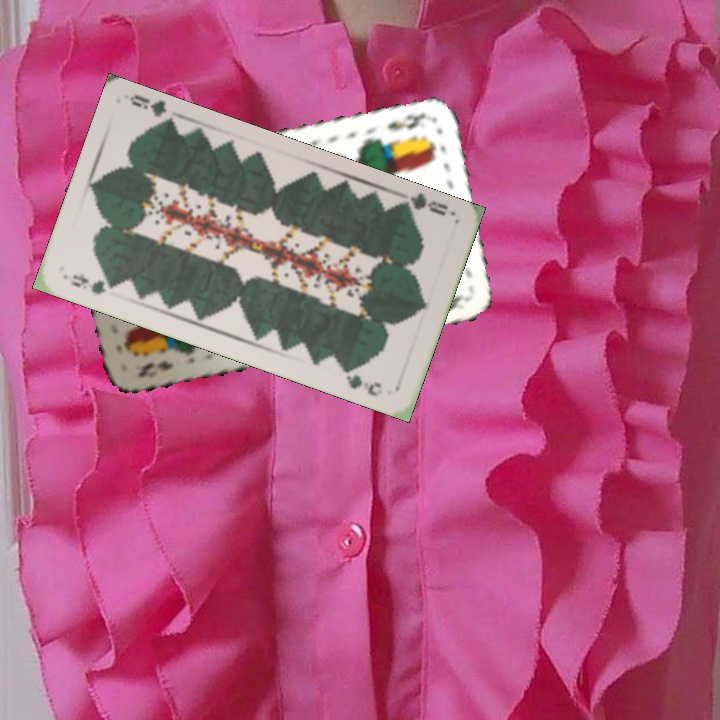EK: (383, 109, 432, 133), (133, 357, 176, 381)
G9: (64, 269, 120, 297), (396, 191, 451, 219)
